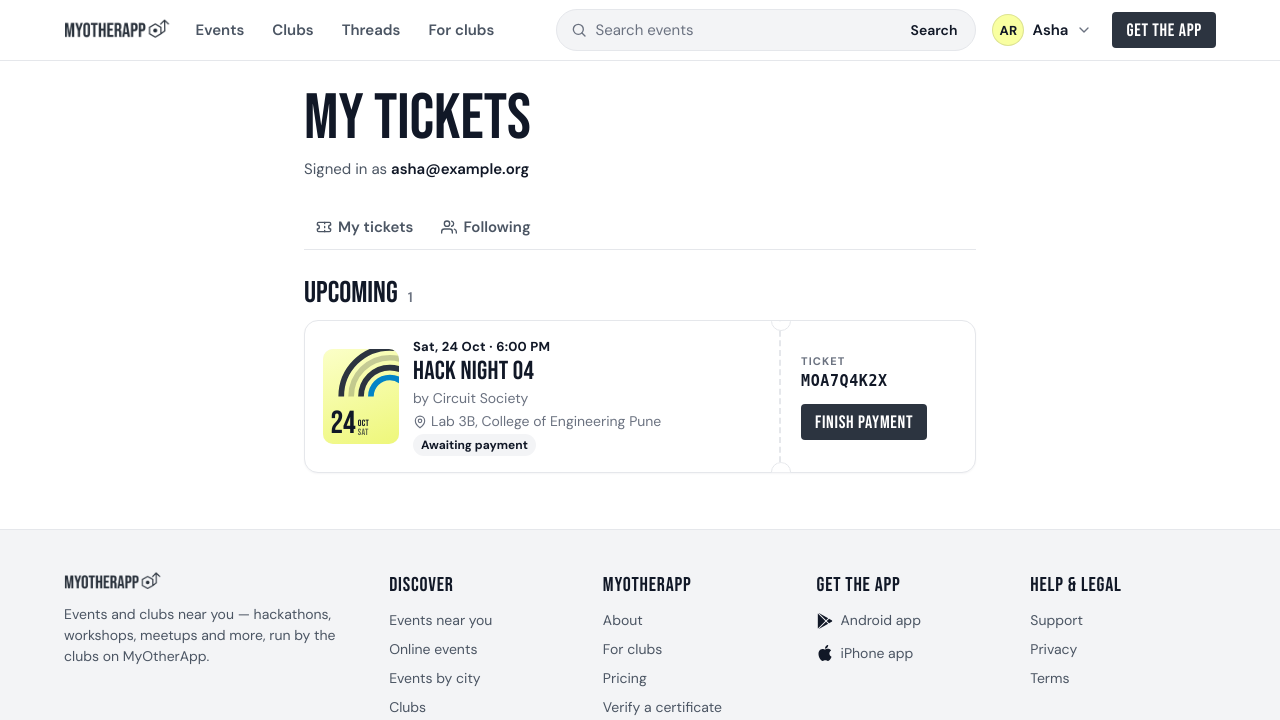
Test: Finish payment, from My tickets › counts 409 ALREADY_PAID from the order as paid: no checkout, the list again
The image size is (1280, 720).
Click the button with aria-label "Finish payment for Hack Night 04": click(864, 422) [801,404,927,440]
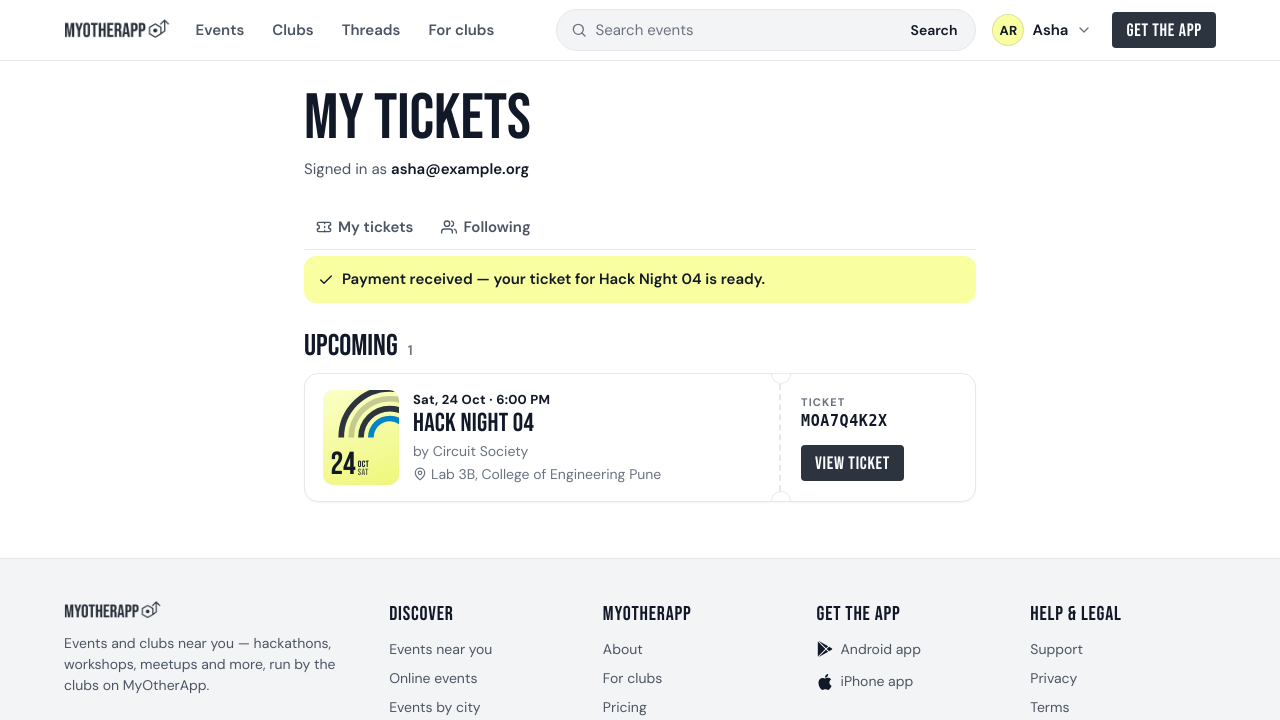
Expected: the text "Payment received — your ticket for Hack Night 04 is ready." is shown, [304,256,976,303]
Expected: the link with aria-label "View ticket for Hack Night 04" is shown, [801,445,904,481]
